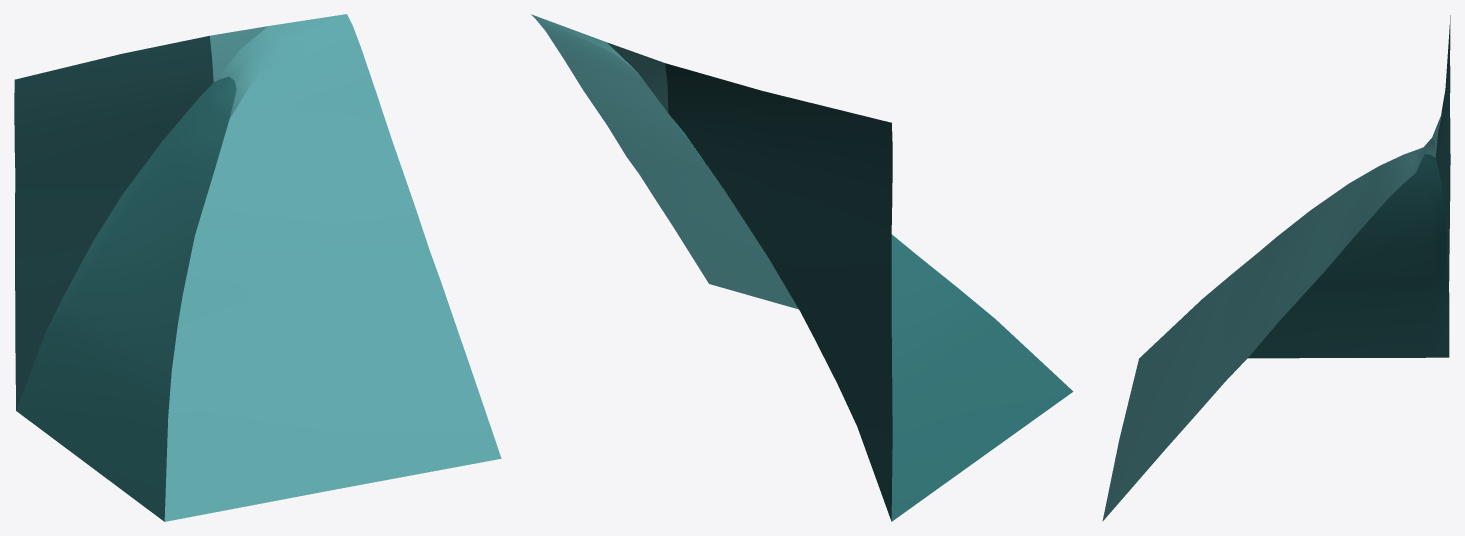
Rendered from PVT_overlay.fbx.
3 views of the same model, side by side, from view 1: azimuth 30°, elevation 25°; view 2: azimuth 150°, elevation 25°; view 3: azimuth 270°, elevation 25° (orthographic). The views are drawn at different scales.
Parts seen in each view (by area): view 1: Plane.047; view 2: Plane.047; view 3: Plane.047.
Part boxes in pixels (left/top/right/bottom): Plane.047: left=14, top=14, right=501, bottom=521; Plane.047: left=531, top=14, right=1073, bottom=521; Plane.047: left=1102, top=15, right=1450, bottom=521.
Size of the model in its own units: 3.17 by 3.18 by 2.89.
